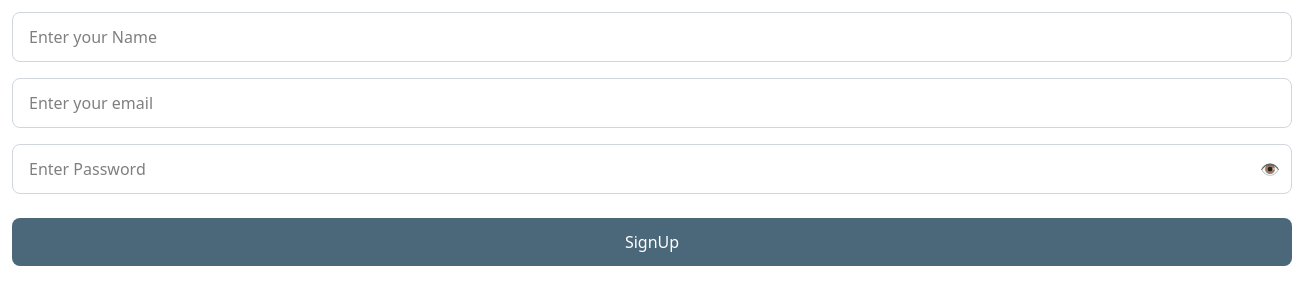
Test: AdminSignUpForm Component › should submit form with all fields filled
This screenshot has width=1304, height=307.
Type "admin_test" into the field with placeholder "Enter your Name" at (652, 37), box [12,12,1292,62]
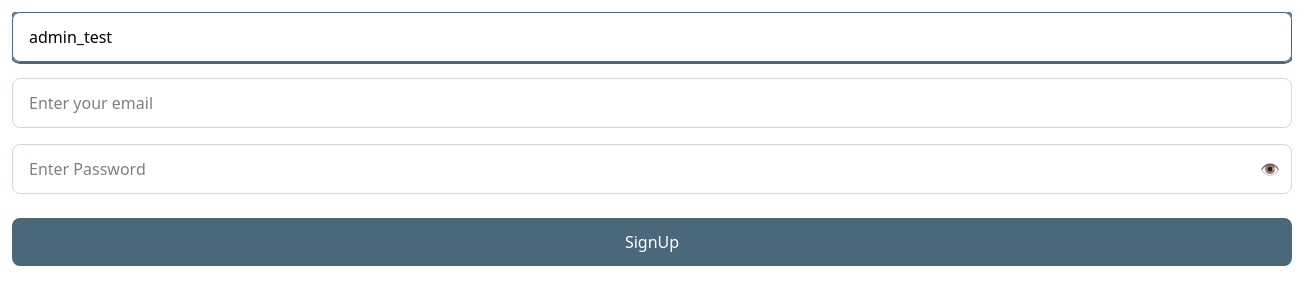
Type "admin@test.com" into the field with placeholder "Enter your email" at (652, 103), box [12,78,1292,128]
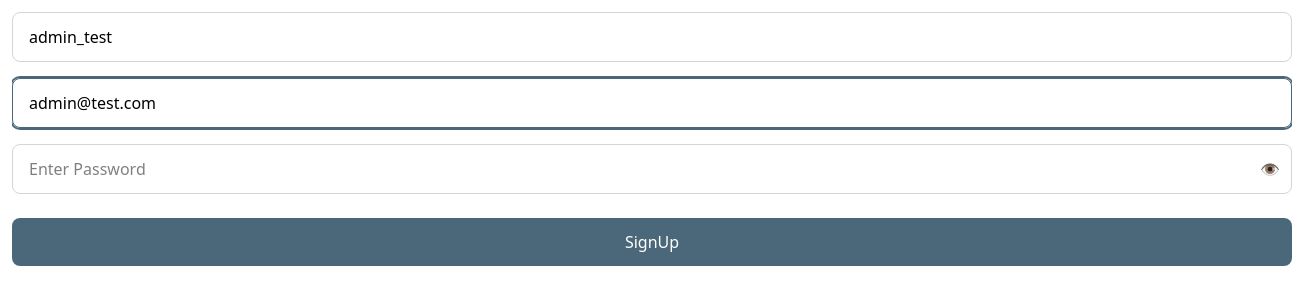
Type "AdminPass123" into the password field with placeholder "Enter Password" at (652, 169), box [12,144,1292,194]
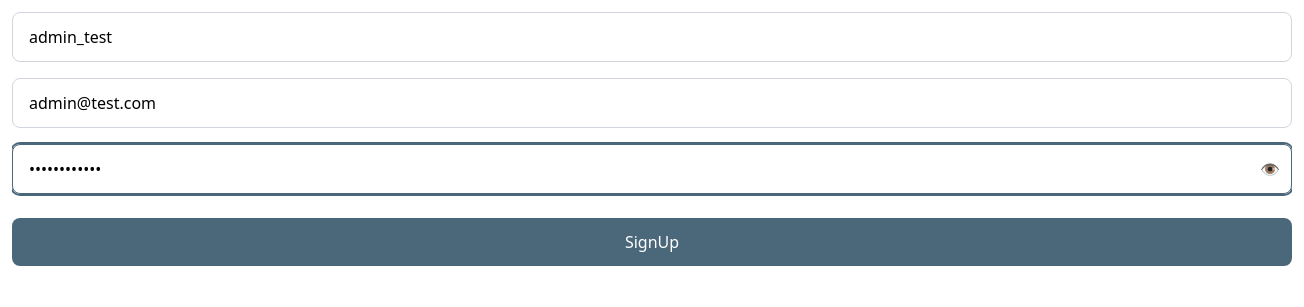
Click the button "SignUp" at (652, 242), box [12,218,1292,266]
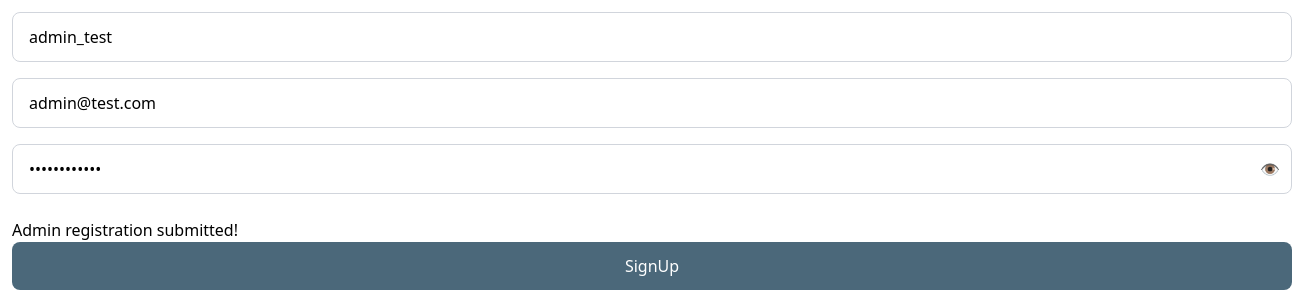
Expected: the text "Admin registration submitted!" is shown, [12,219,238,241]
